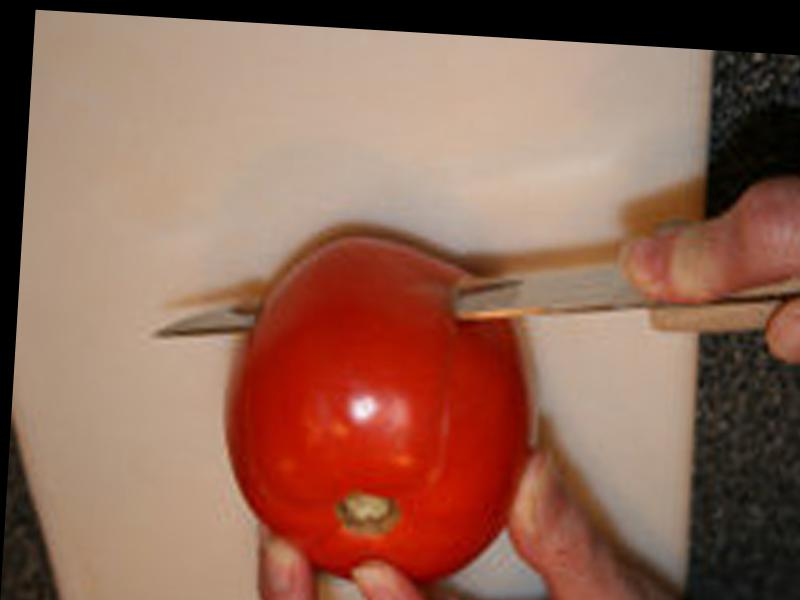Tomato: (212, 229, 540, 593)
